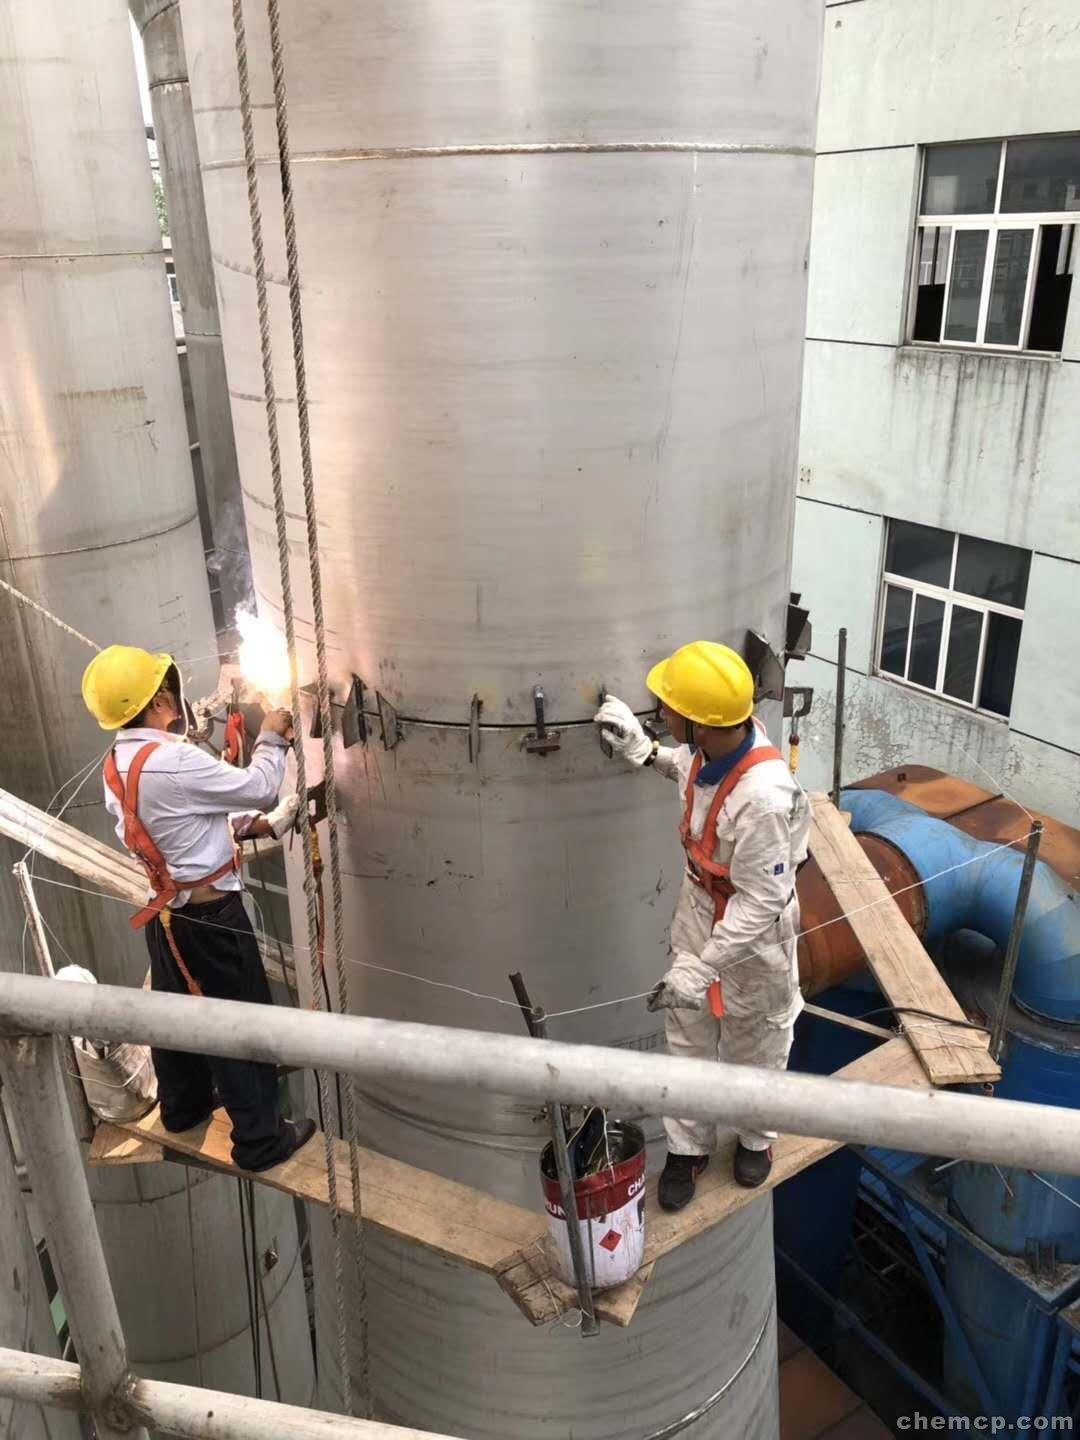helmet: (647, 642, 756, 730), (81, 644, 172, 738)
